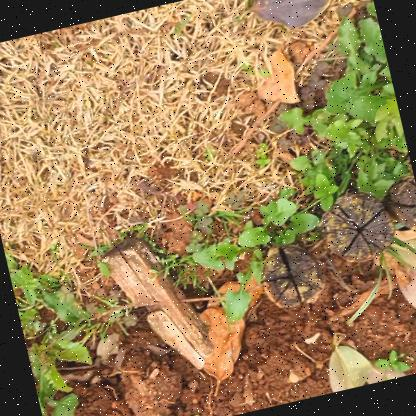Weeds: (139, 0, 415, 330), (6, 246, 111, 415), (364, 340, 415, 384), (8, 259, 46, 309)
